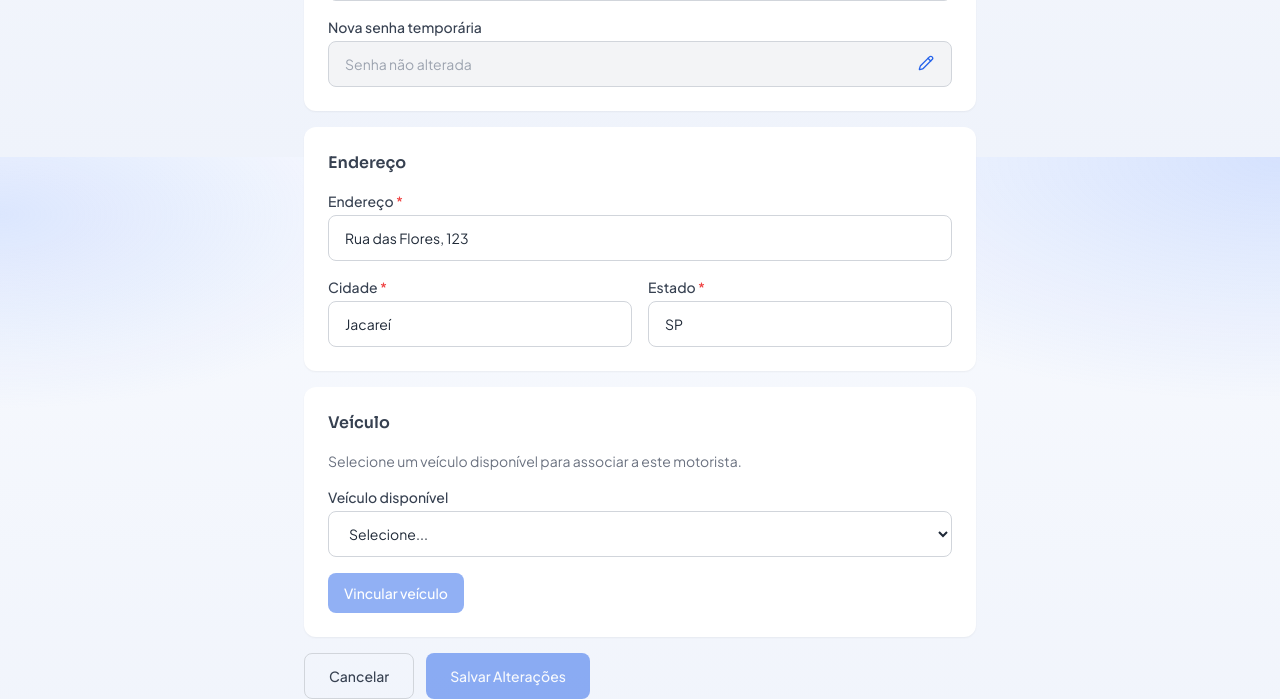
DriverEditPage › WEB-01/WEB-04: linking a vehicle requires admin confirmation and re-enables Salvar afterward
The image size is (1280, 699).
(page scrolled)
Select "Honda CG 160 - ABC1234 (CAT I)" in the dropdown labelled "Veículo disponível" at (640, 534), box [328, 511, 952, 557]
(page scrolled)
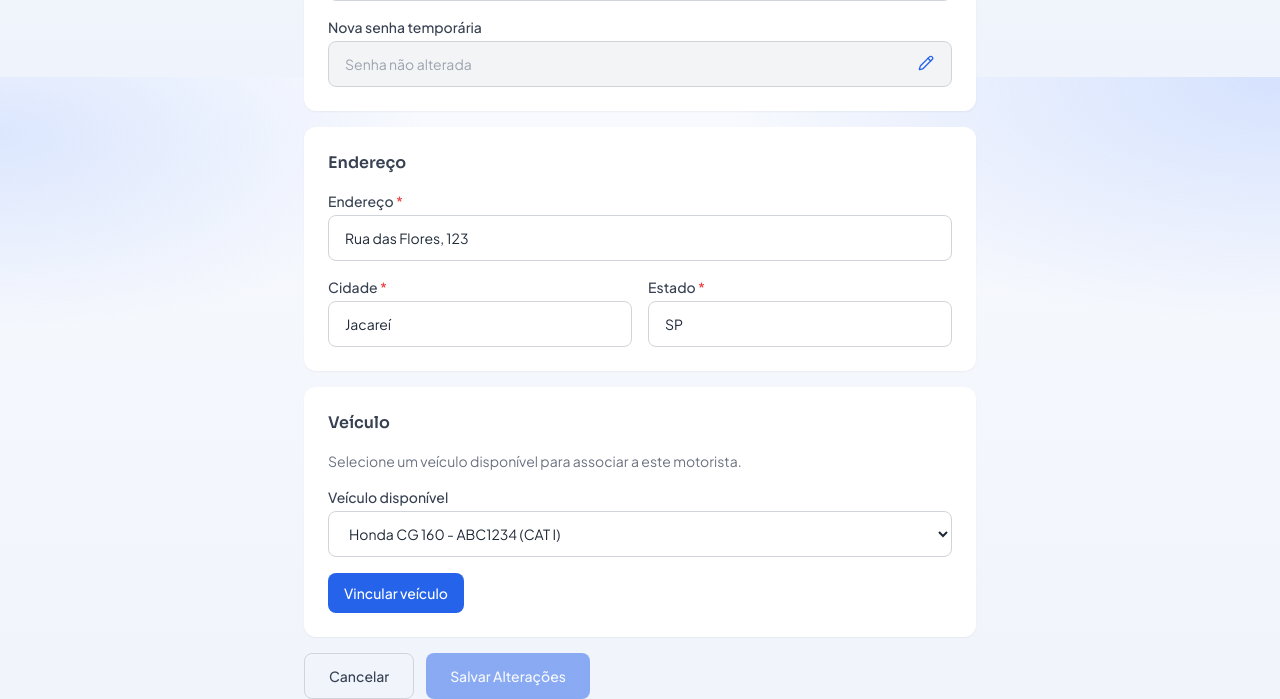
Click the button "Vincular veículo" at (396, 593), box [328, 573, 464, 613]
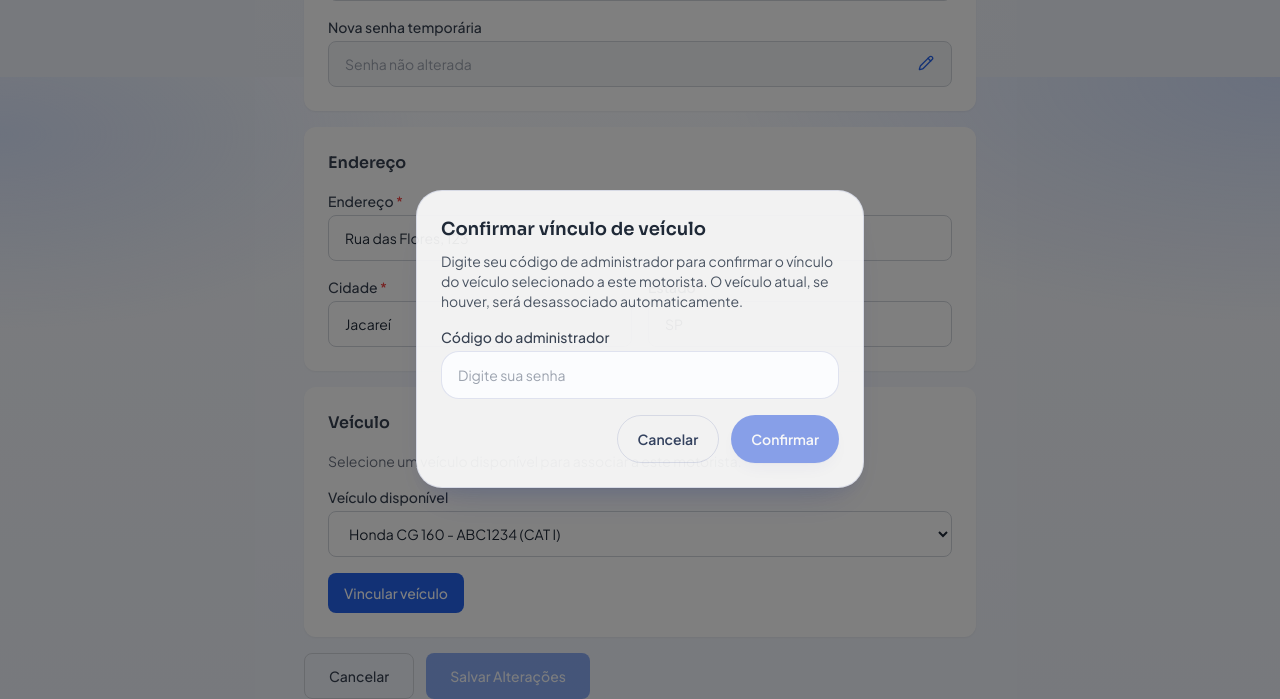
Type "admin-pass" into the password field labelled "Código do administrador" at (640, 375), box [441, 351, 839, 399]
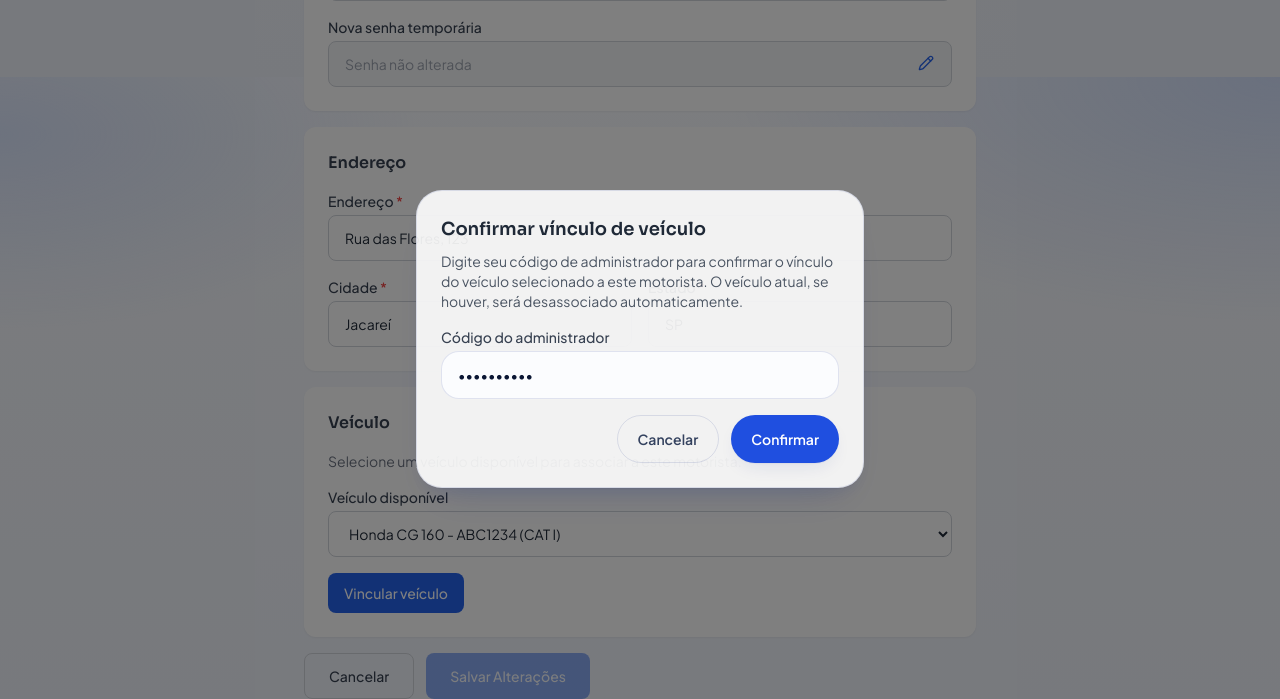
Click the button "Confirmar" at (785, 439), box [731, 415, 839, 463]
(page scrolled)
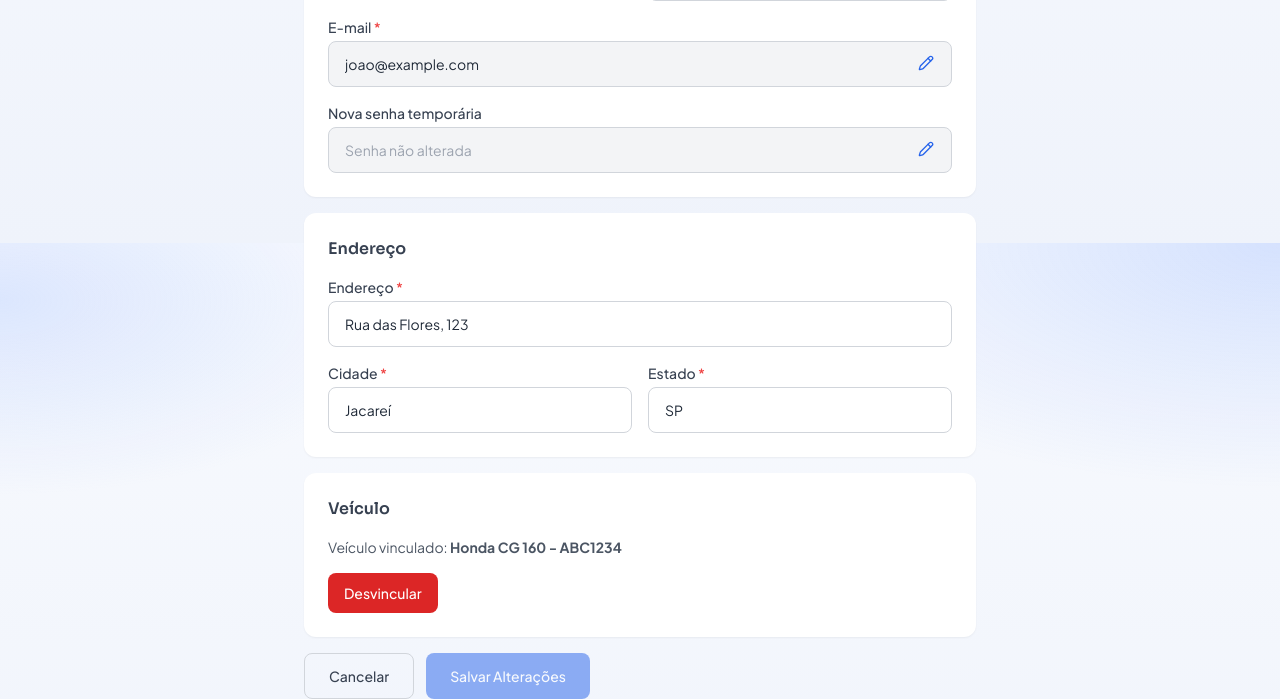
Expected: the button "Salvar Alterações" is disabled, [426, 653, 590, 698]
Now the text "Veículo vinculado: Honda CG 160 - ABC1234" is shown, box [328, 538, 622, 556]
